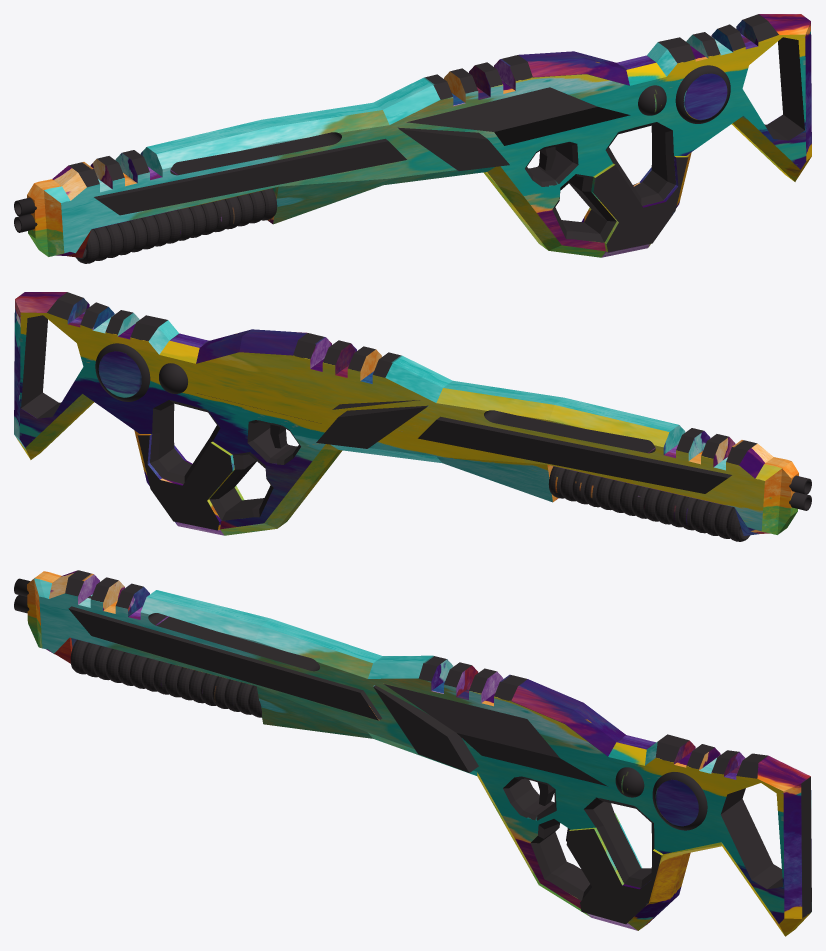
Rendered from color.glb.
3 views of the same model, one above another, from view 1: azimuth 30°, elevation 25°; view 2: azimuth 150°, elevation 25°; view 3: azimuth 330°, elevation 25° (orthographic).
Parts seen in each view (by area): view 1: Nozzle.002_Cylinder.002; view 2: Nozzle.002_Cylinder.002; view 3: Nozzle.002_Cylinder.002.
Part boxes in pixels (left/top/right/bottom): Nozzle.002_Cylinder.002: left=14, top=14, right=811, bottom=263; Nozzle.002_Cylinder.002: left=14, top=292, right=811, bottom=541; Nozzle.002_Cylinder.002: left=14, top=570, right=811, bottom=936.
Bounding box in the file's own units: 4.55 × 1.19 × 0.4026.
Materials: 1 (1 with a texture image).
